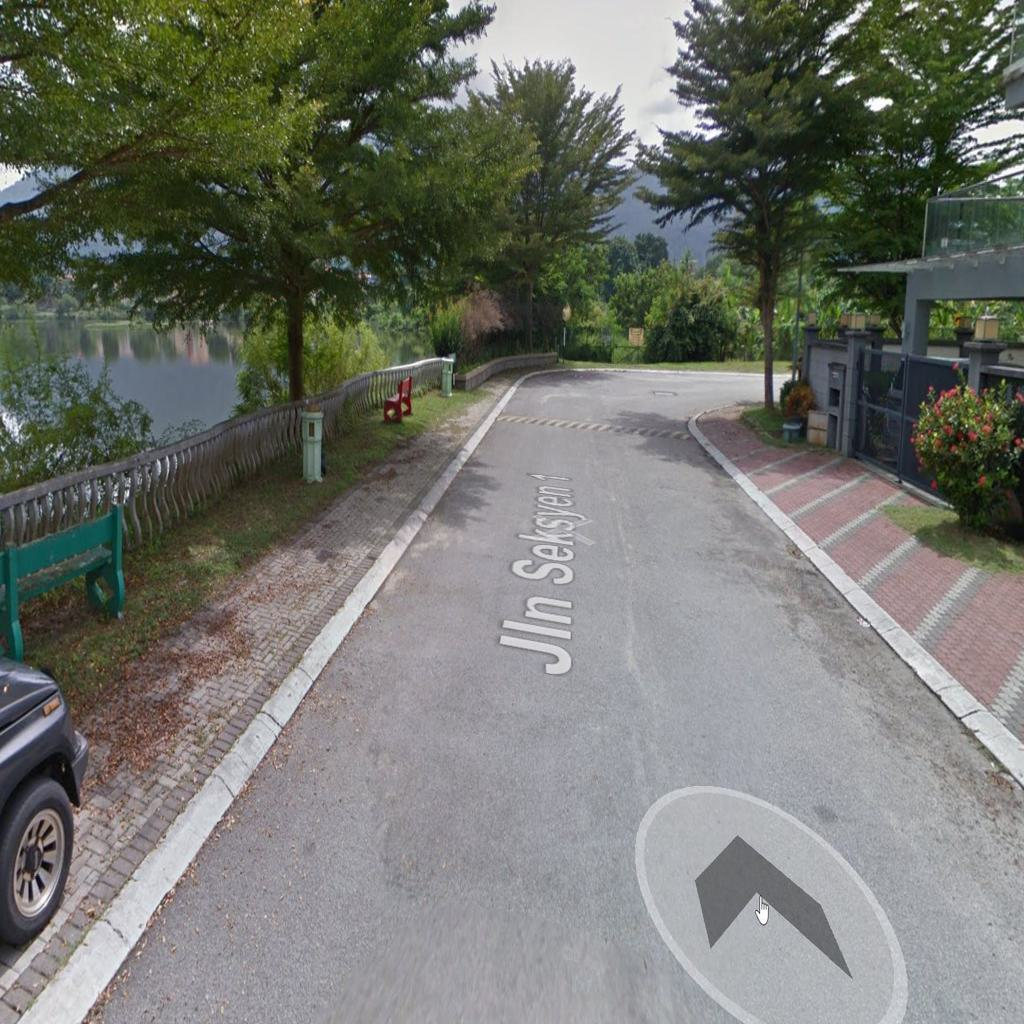Junction: (652, 348, 795, 431)
